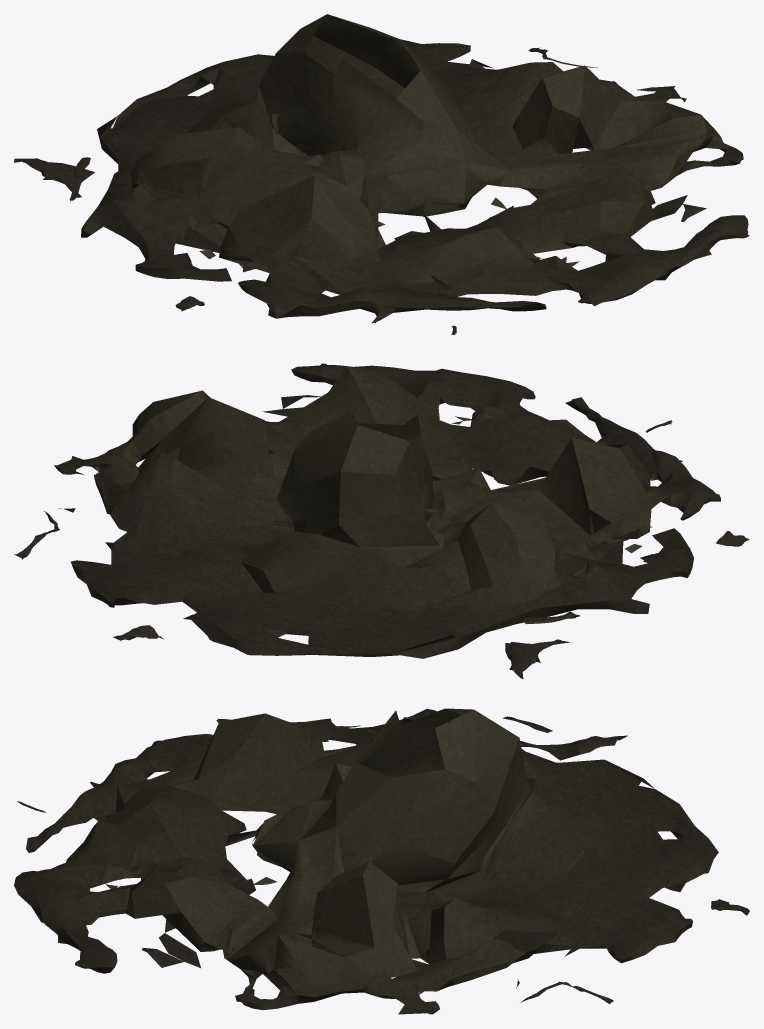
The model's file is b6-pebbles.glb.
3 views of the same model, one above another, from view 1: azimuth 30°, elevation 25°; view 2: azimuth 150°, elevation 25°; view 3: azimuth 270°, elevation 25° (orthographic). The views are drawn at different scales.
Size of the model in its own units: 1.72 by 0.4202 by 1.79.
1 material, 1 textured.
